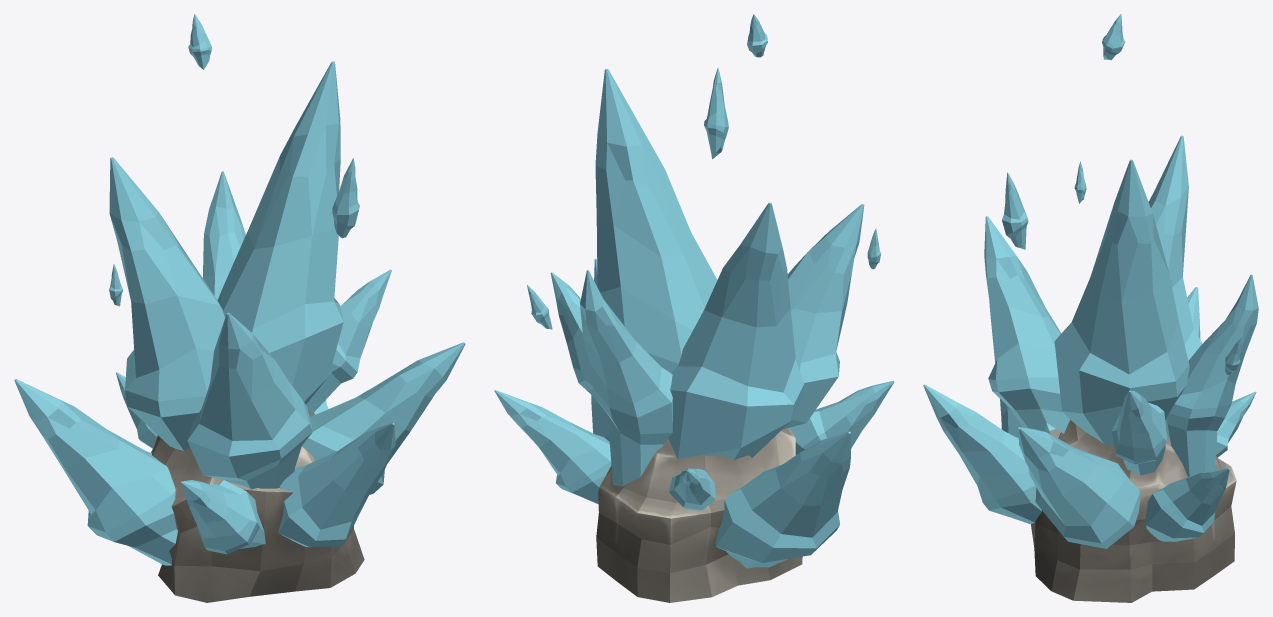
Rendered from cyan-ore.glb.
3 renders of one model, left to right at view 1: azimuth 30°, elevation 25°; view 2: azimuth 150°, elevation 25°; view 3: azimuth 270°, elevation 25°, orthographic. The views are drawn at different scales.
Parts seen in each view (by area): view 1: Cube.010_Cube.008; view 2: Cube.010_Cube.008; view 3: Cube.010_Cube.008.
Boxes of the visible parts, box(x1,y1,x2,y2) form: Cube.010_Cube.008: box(14, 14, 465, 602); Cube.010_Cube.008: box(494, 14, 894, 602); Cube.010_Cube.008: box(923, 14, 1258, 602).
Size of the model in its own units: 1.45 by 2.18 by 1.27.
2 materials, 1 textured.
